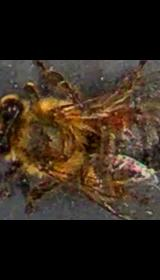varroa_mite: (110, 107, 133, 133)
